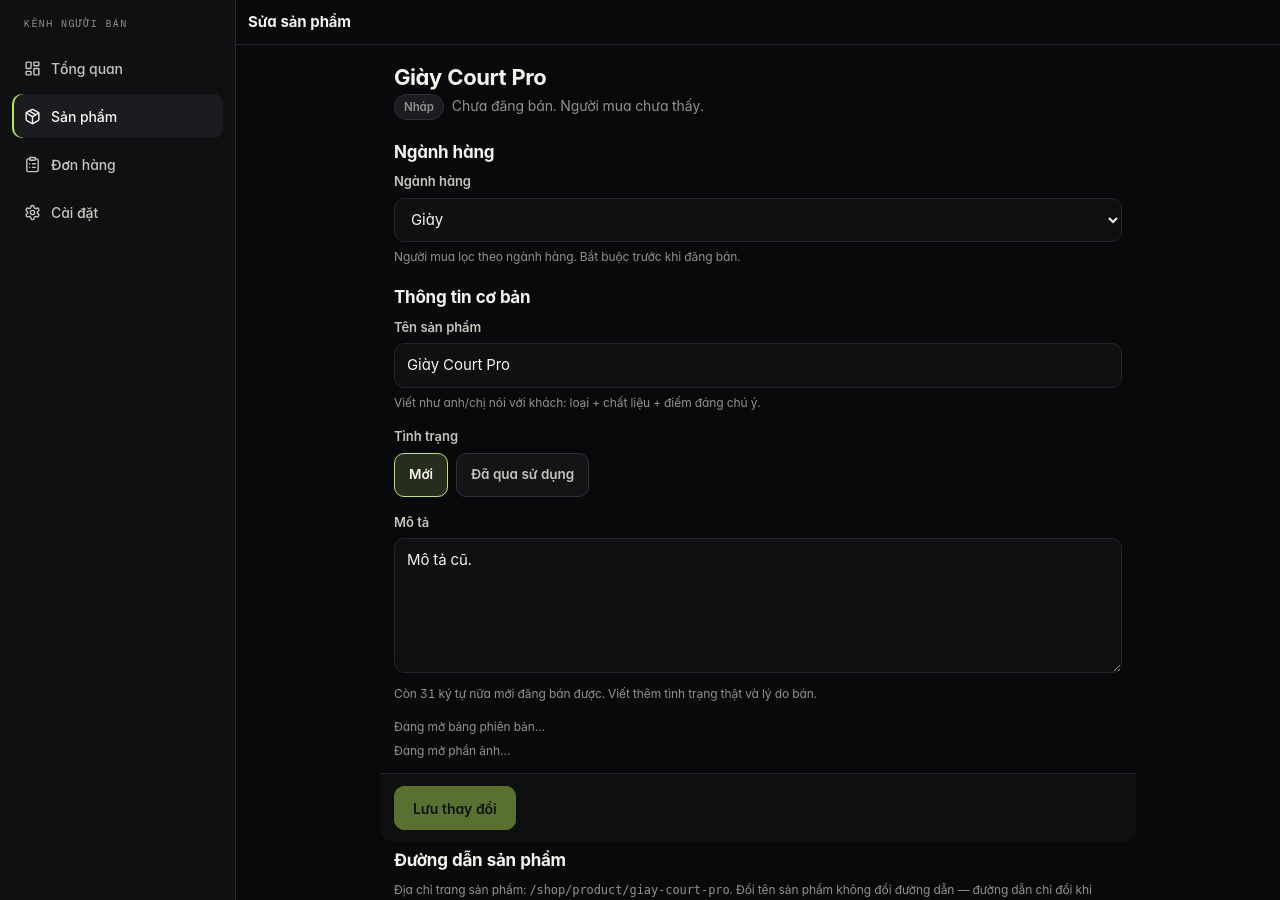
Test: no save branch can strand the button on Đang lưu… › leaves the saving state when the RPC rejects, and offers Retry
Step 1. Replace the text in the field labelled "Tên sản phẩm" with "Tên mới" → (758, 365), box [394,343,1122,388]
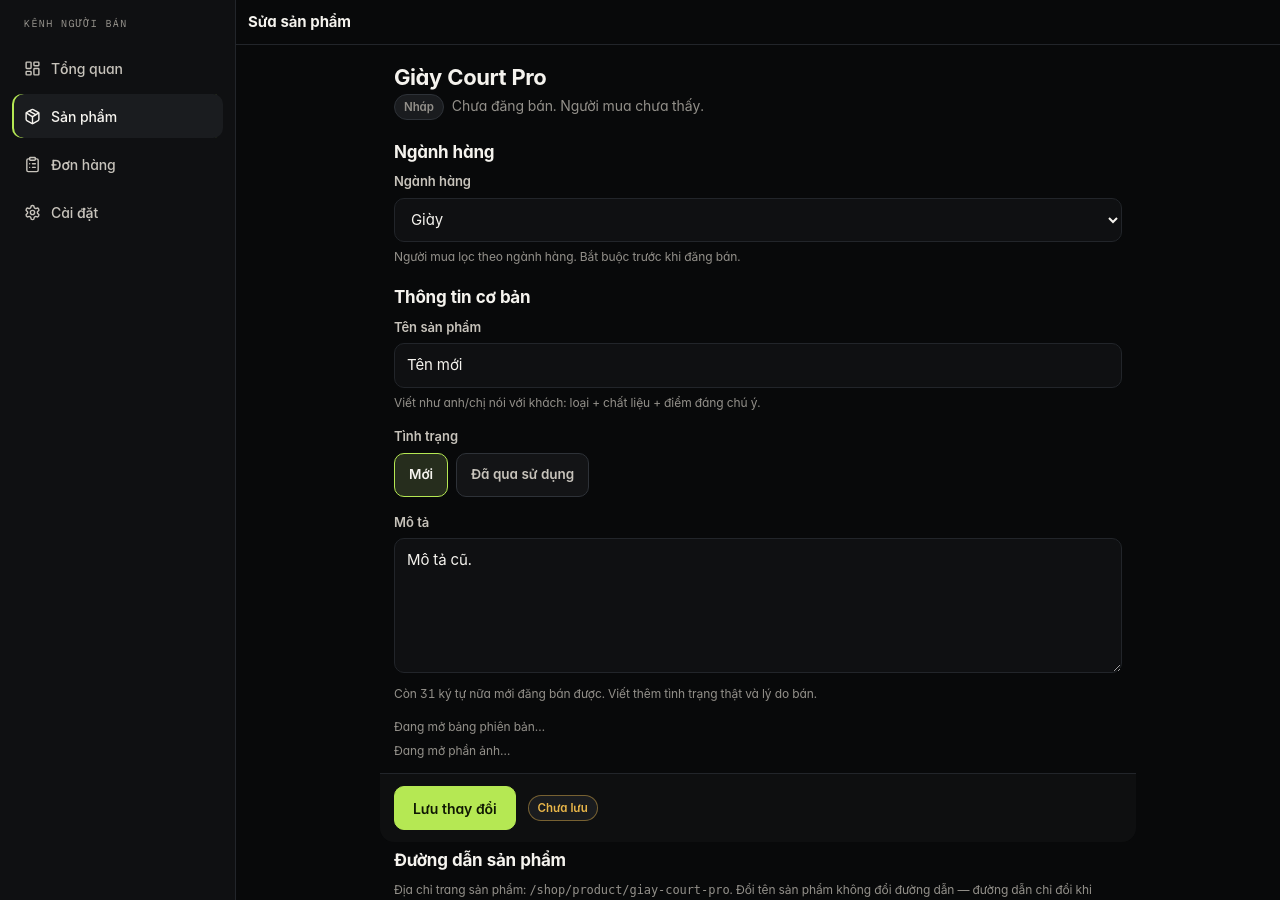
Step 2. Click the button "Lưu thay đổi" → (455, 808), box [394,786,516,830]
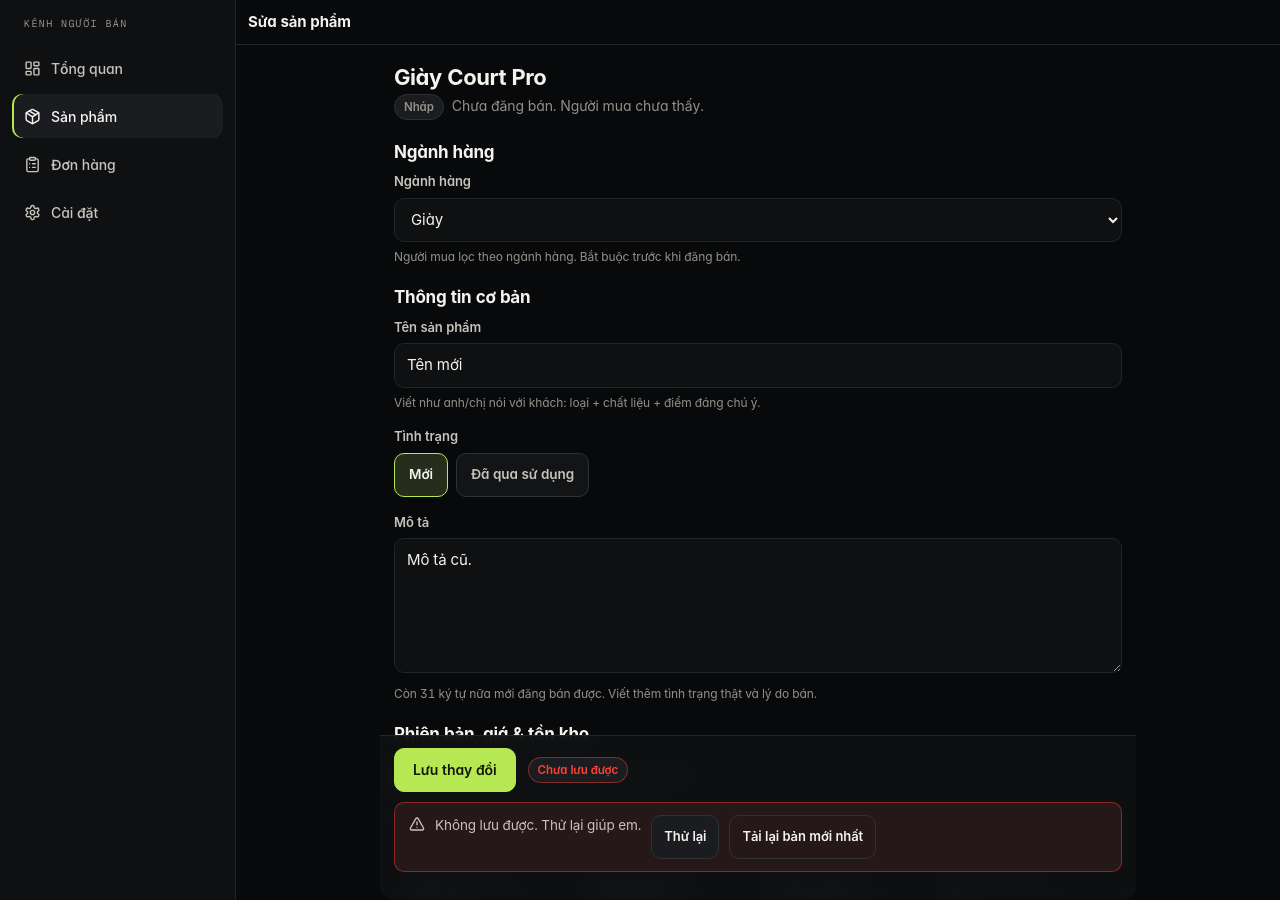
Now the button "Lưu thay đổi" is enabled, box [394,748,516,792]
Now the text "Chưa lưu được" is shown, box [528,757,628,783]
Now the button "Thử lại" is shown, box [651,815,720,859]
